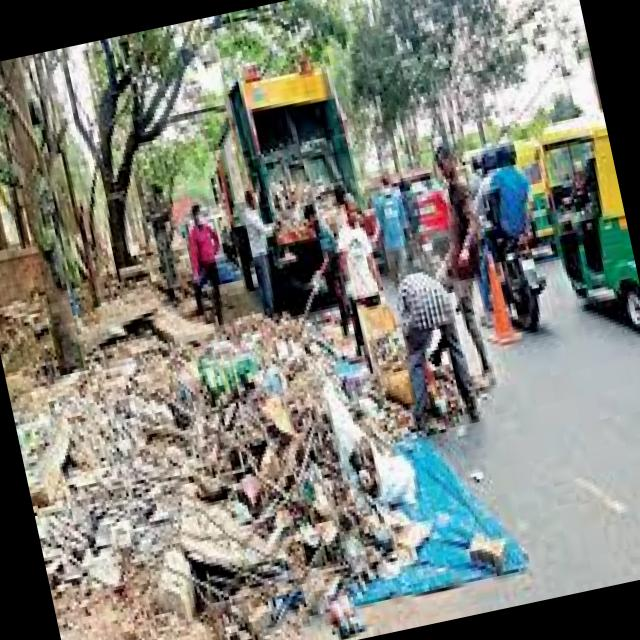garbage: (11, 306, 523, 637)
